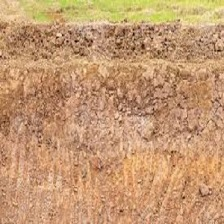sandy_soil: (4, 19, 215, 212)
